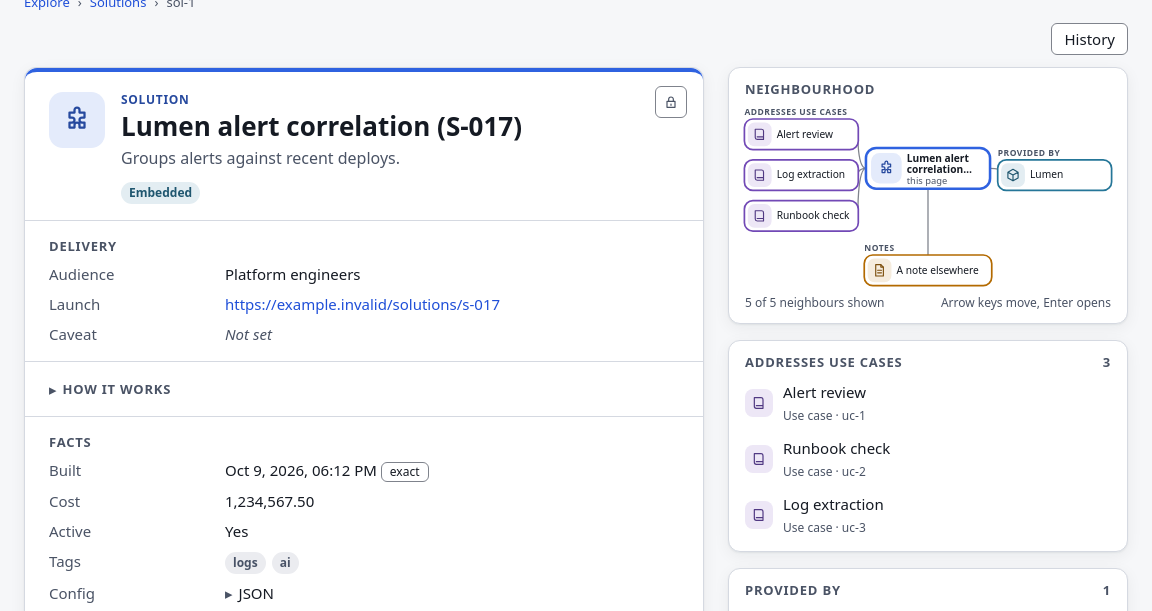
it: removing a link in place › keeps the link when the question is cancelled
What coordinates should you click on to do the following:
click the button named "Edit mode"
I would click on:
 (671, 102)
Its box is [655,86,687,118].
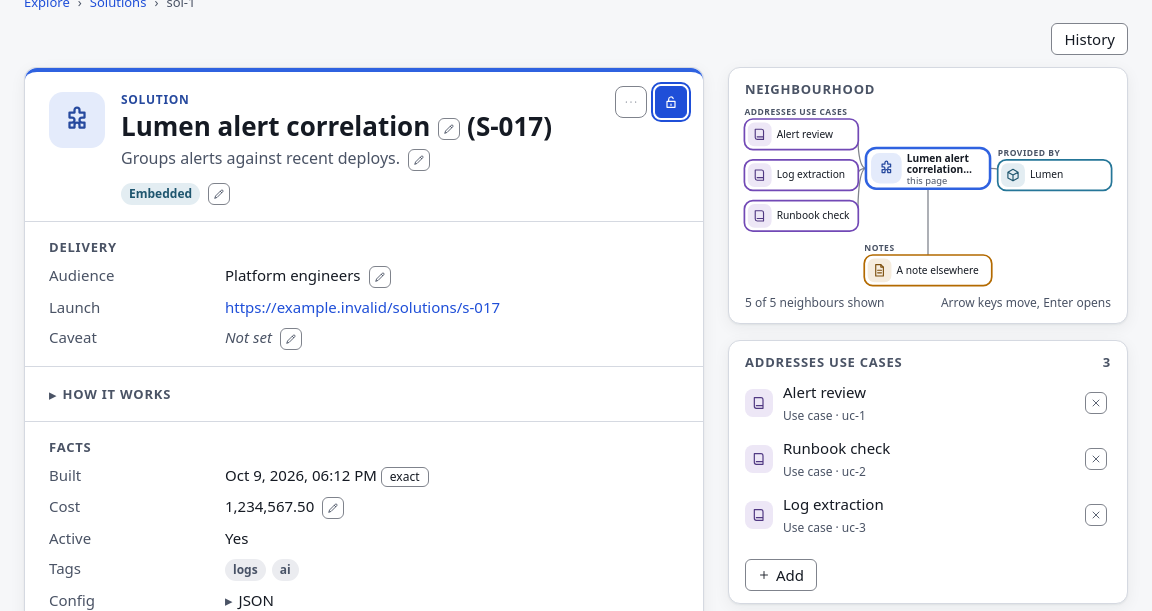
What coordinates should you click on to do the following:
click the button named "Remove link to Alert review"
I would click on:
 (1096, 403)
Its box is [1085,392,1107,414].
(page scrolled)
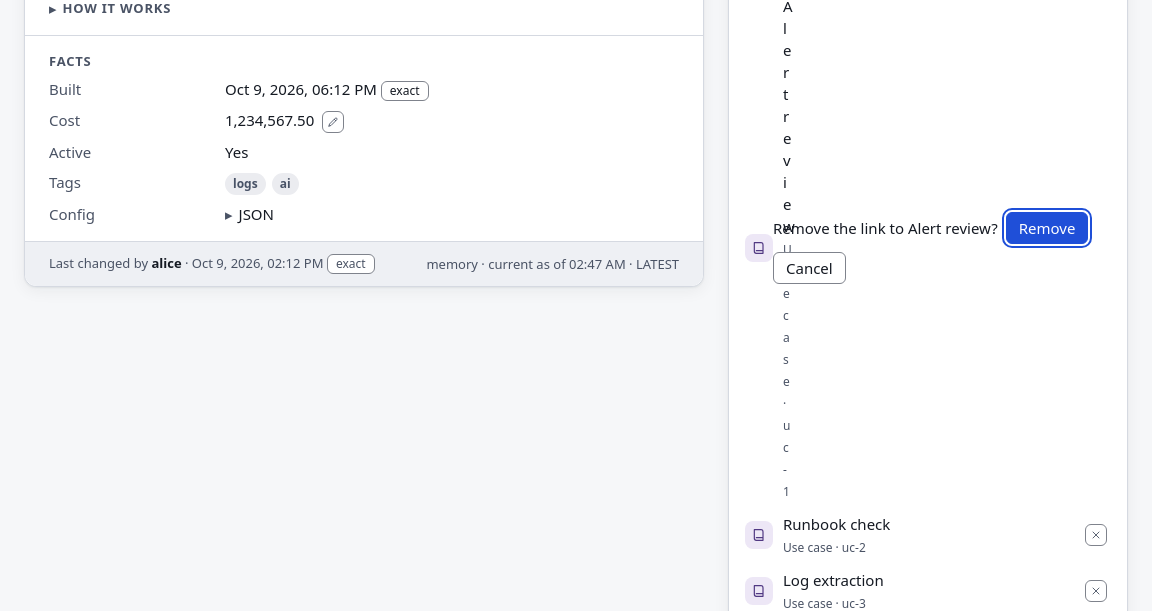
What coordinates should you click on to do the following:
click the button "Cancel"
I would click on:
 (809, 268)
Its box is [773,252,846,284].
(page scrolled)
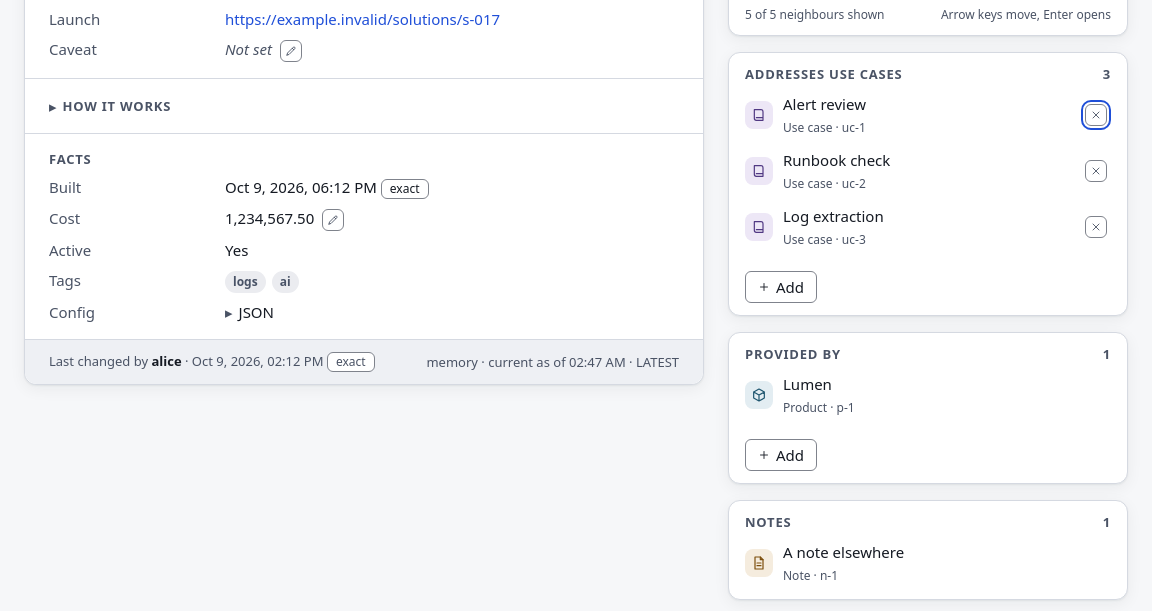
Result: the link "Alert review" is shown at [745,94,866,136]
